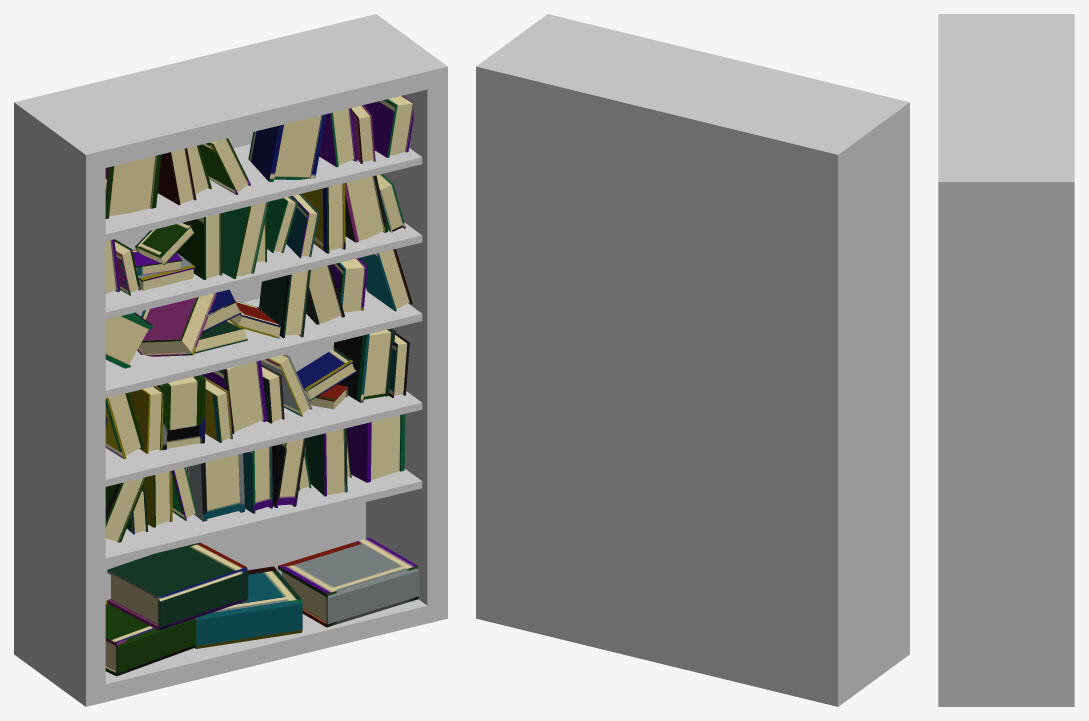
File: Book_Shelf_2.fbx
3 renders of one model, left to right at view 1: azimuth 30°, elevation 25°; view 2: azimuth 150°, elevation 25°; view 3: azimuth 270°, elevation 25°, orthographic. The views are drawn at different scales.
Visible parts, largest first — view 1: Book_Case.001, Book.001; view 2: Book_Case.001; view 3: Book_Case.001.
Boxes of the visible parts, <box> form: Book_Case.001: <box>14,14,447,706</box>; Book.001: <box>105,95,418,676</box>; Book_Case.001: <box>476,14,909,706</box>; Book_Case.001: <box>938,14,1074,706</box>.
Bounding box in the file's own units: 172 × 251 × 59.19.
